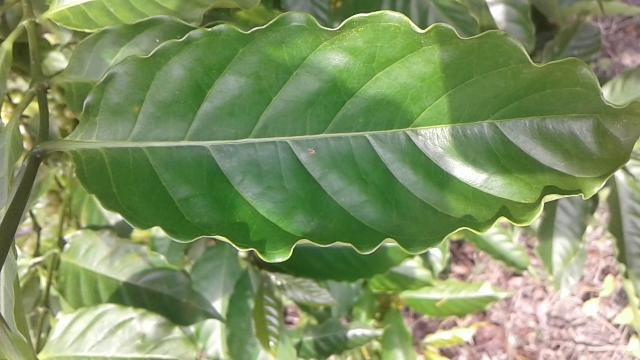rust_level_1: (66, 6, 640, 264)
